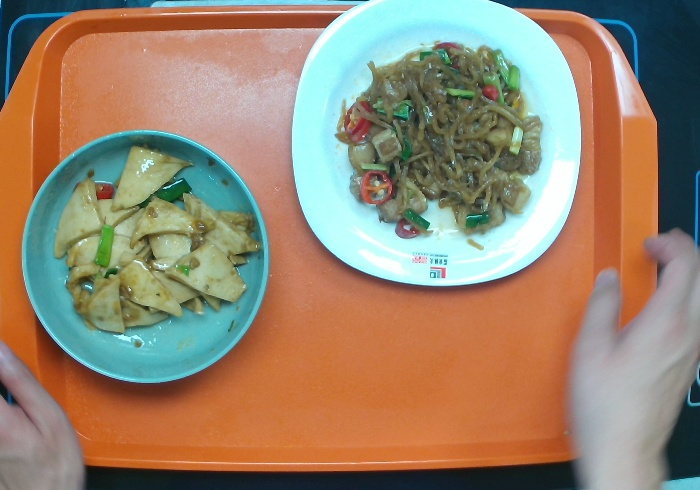ZNLD-Qing_Hua_Yuan_Wan: (14, 125, 278, 388)
ZNLD-Yuan_Jiao_Pan: (287, 1, 585, 295)
